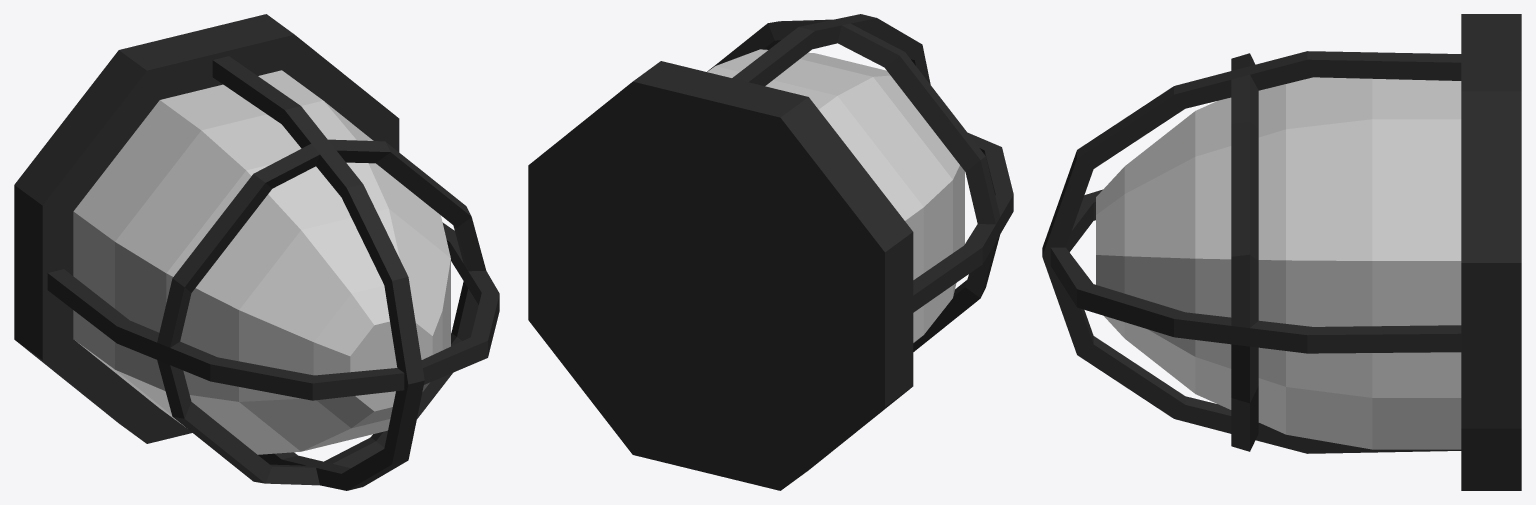
File: Light_05.fbx
3 views of the same model, side by side, from view 1: azimuth 30°, elevation 25°; view 2: azimuth 150°, elevation 25°; view 3: azimuth 270°, elevation 25° (orthographic). The views are drawn at different scales.
Parts seen in each view (by area): view 1: Light_05; view 2: Light_05; view 3: Light_05.
Part boxes in pixels (x1,y1,x2,y2): Light_05: [14, 14, 499, 490]; Light_05: [528, 14, 1013, 490]; Light_05: [1042, 14, 1521, 490].
Size of the model in its own units: 22.14 by 22.14 by 24.07.
